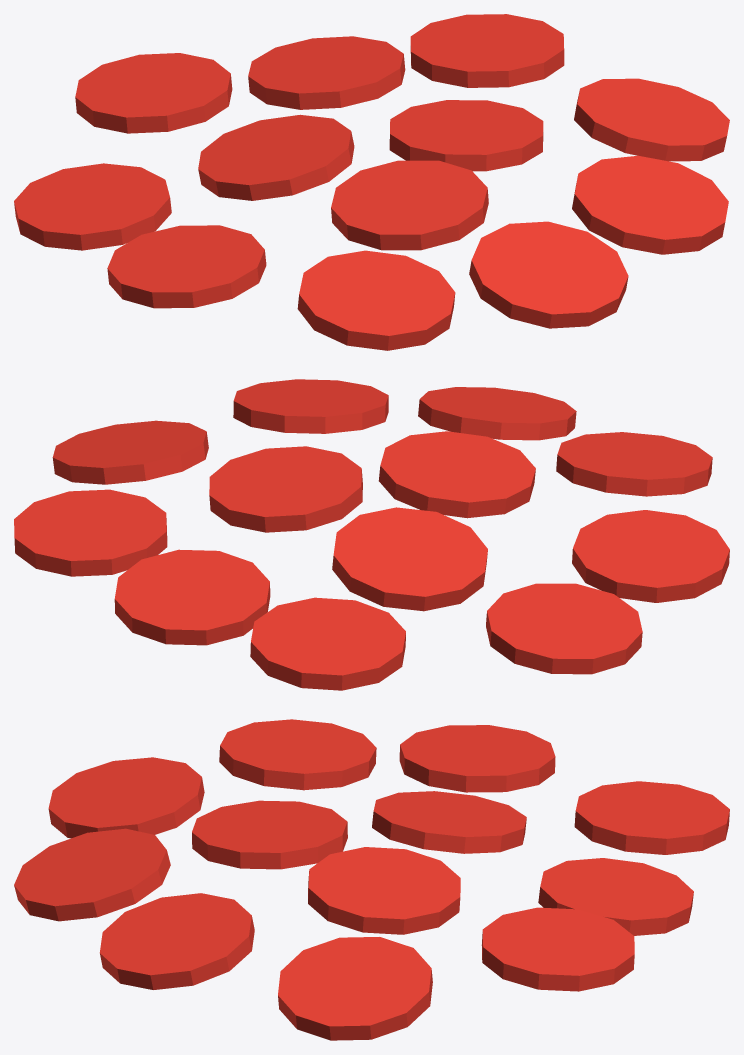
Rendered from Peperoni.fbx.
3 renders of one model, top to bottom at view 1: azimuth 30°, elevation 25°; view 2: azimuth 150°, elevation 25°; view 3: azimuth 270°, elevation 25°, orthographic.
Parts seen in each view (by area): view 1: model.004, model.006, model.015, model.012, model.011, model.007, model.010, model.008, model.003, model.009, model.014, model.005; view 2: model.010, model.014, model.008, model.007, model.011, model.009, model.005, model.012, model.006, model.003, model.015, model.004; view 3: model.003, model.015, model.005, model.004, model.009, model.006, model.008, model.007, model.012, model.011, model.014, model.010.
Boxes of the visible parts, x1,y1,x2,y2 form: model.004: (469, 221, 628, 328); model.006: (297, 250, 455, 350); model.015: (572, 155, 728, 254); model.012: (331, 160, 488, 250); model.011: (14, 163, 171, 250); model.007: (107, 225, 266, 308); model.010: (198, 114, 354, 200); model.008: (75, 53, 232, 133); model.003: (574, 78, 729, 161); model.009: (410, 14, 564, 87); model.014: (248, 36, 405, 109); model.005: (389, 100, 543, 171); model.010: (332, 507, 487, 611); model.014: (114, 549, 270, 645); model.008: (250, 597, 405, 690); model.007: (572, 510, 729, 602); model.011: (486, 583, 642, 674); model.009: (14, 489, 167, 576); model.005: (209, 446, 362, 532); model.012: (378, 431, 535, 518); model.006: (556, 432, 712, 496); model.003: (52, 420, 208, 484); model.015: (233, 379, 388, 433); model.004: (418, 387, 576, 440); model.003: (278, 937, 432, 1040); model.015: (99, 893, 254, 989); model.005: (308, 847, 460, 934); model.004: (14, 828, 170, 921); model.009: (481, 907, 634, 991); model.006: (48, 757, 204, 838); model.008: (574, 781, 729, 854); model.007: (219, 719, 376, 790); model.012: (192, 800, 347, 869); model.011: (399, 725, 555, 792); model.014: (538, 858, 693, 935); model.010: (372, 791, 526, 853).
Size of the model in its own units: 175 by 14.87 by 173.
